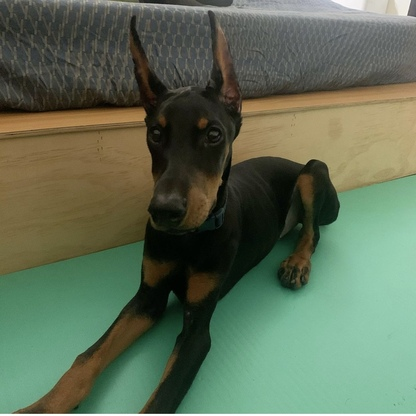doberman: (116, 11, 345, 361)
